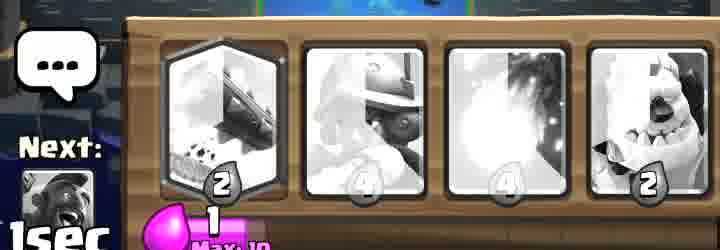hog-rider: (22, 169, 90, 232)
